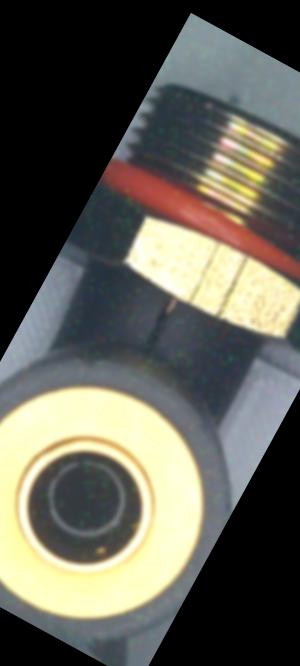craze: (132, 290, 189, 360)
